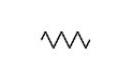resistor: (36, 26, 90, 53)
